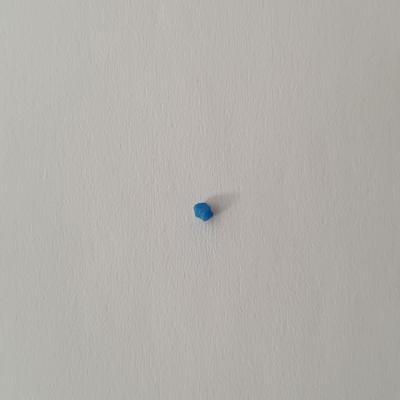plastic: (190, 197, 221, 226)
